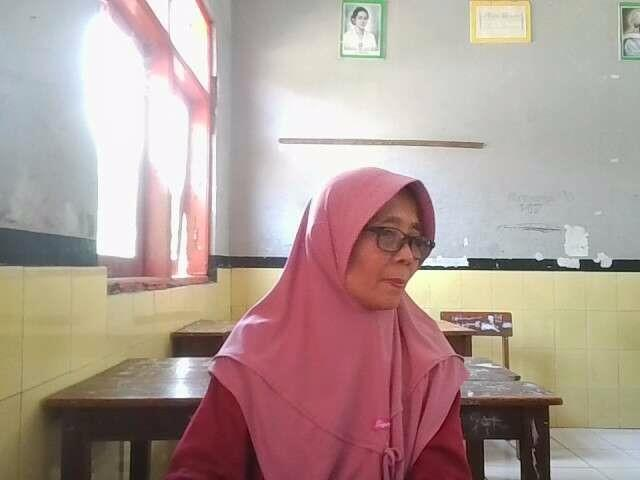cheating: (129, 141, 474, 480)
